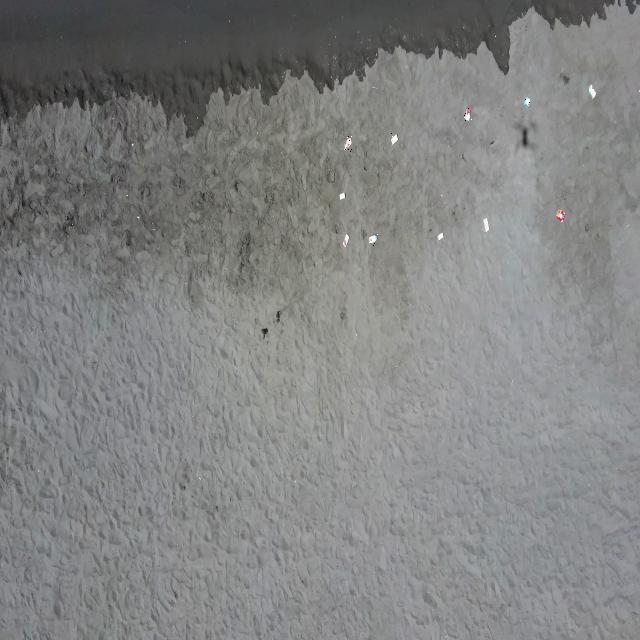Garbage: (587, 83, 595, 98), (464, 104, 471, 120), (555, 209, 564, 220), (344, 136, 351, 150), (522, 96, 529, 108), (368, 233, 376, 243), (343, 233, 347, 247), (436, 232, 443, 240), (391, 134, 396, 143), (484, 218, 487, 231), (339, 192, 344, 199), (637, 88, 639, 91)
